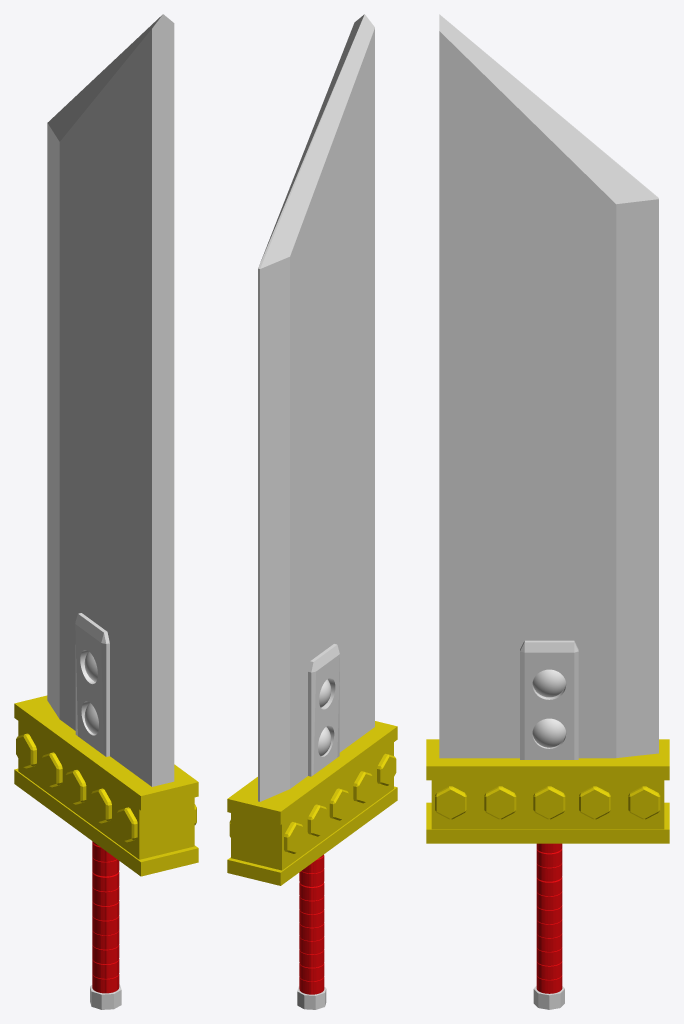
The model's file is バスターソード.fbx.
The picture shows the model from 3 angles, left to right: view 1: azimuth 30°, elevation 25°; view 2: azimuth 150°, elevation 25°; view 3: azimuth 270°, elevation 25°; orthographic projection. The views are drawn at different scales.
Visible parts, largest first — view 1: 立方体.001, 立方体, 立方体.002, 円柱.011, 立方体.004, 立方体.003, 円, 円.002; view 2: 立方体.001, 立方体, 立方体.002, 円柱.011, 立方体.004, 立方体.003, 円, 円.002; view 3: 立方体.001, 立方体, 立方体.002, 立方体.004, 円, 円柱.011, 立方体.003, 球, 球.001.
Part boxes in pixels (box(x1,y1,x2,y2)): 立方体.001: box(47, 14, 174, 786); 立方体: box(18, 721, 194, 859); 立方体.002: box(14, 695, 198, 810); 円柱.011: box(92, 841, 119, 993); 立方体.004: box(75, 613, 109, 756); 立方体.003: box(14, 768, 198, 876); 円: box(16, 733, 196, 842); 円.002: box(90, 984, 121, 1009); 立方体.001: box(258, 14, 374, 801); 立方体: box(231, 742, 393, 870); 立方体.002: box(227, 721, 397, 824); 円柱.011: box(299, 854, 324, 994); 立方体.004: box(308, 644, 339, 776); 立方体.003: box(227, 786, 397, 885); 円: box(229, 753, 396, 853); 円.002: box(297, 986, 326, 1009); 立方体.001: box(439, 14, 658, 758); 立方体: box(431, 780, 664, 829); 立方体.002: box(426, 739, 669, 780); 立方体.004: box(520, 640, 578, 759); 円: box(435, 786, 660, 819); 円柱.011: box(536, 843, 562, 993); 立方体.003: box(426, 802, 669, 843); 球: box(532, 718, 565, 747); 球.001: box(532, 669, 565, 697).
Bounding box in the file's own units: 78.34 × 1182 × 263.
